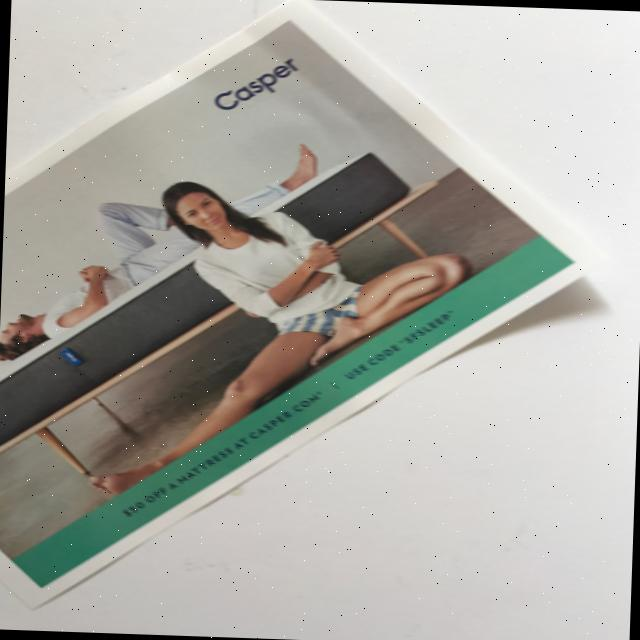paper: (0, 0, 613, 627)
